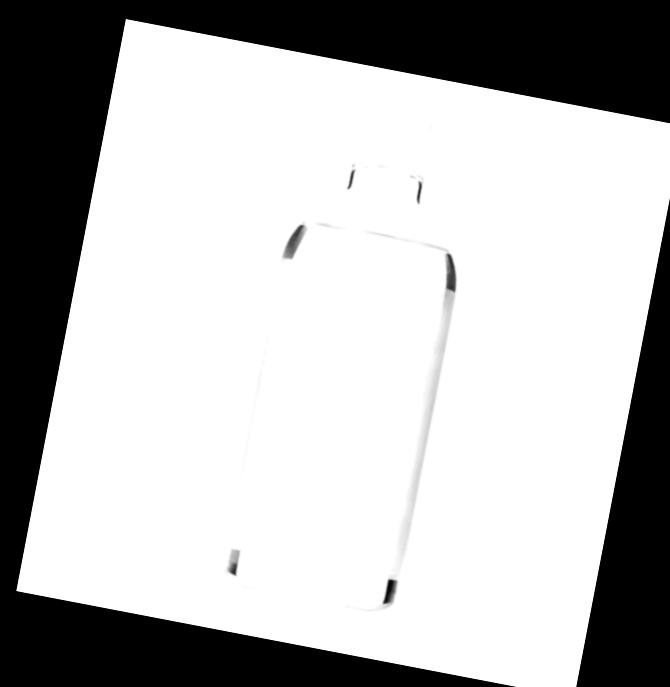cosmetic: (216, 88, 486, 613)
